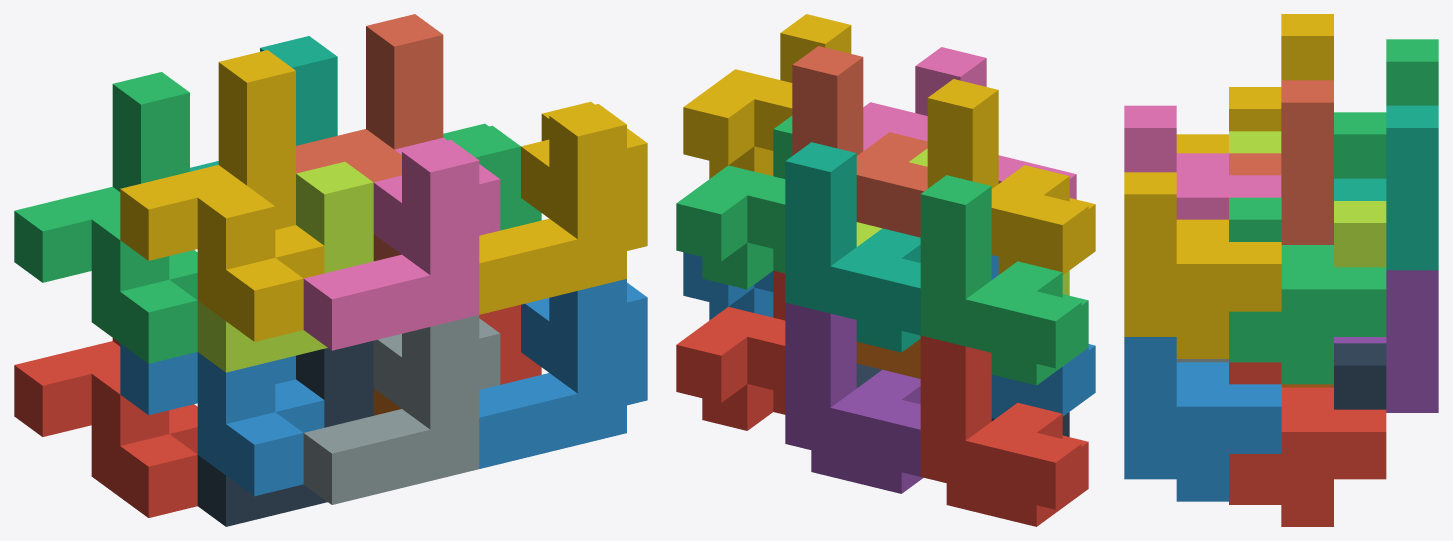
Rendered from tiling.obj.
3 views of the same model, side by side, from view 1: azimuth 30°, elevation 25°; view 2: azimuth 150°, elevation 25°; view 3: azimuth 270°, elevation 25° (orthographic). The views are drawn at different scales.
Visible parts, largest first — view 1: copy_1_domain_4, copy_1_domain_3, copy_2_domain_4, copy_2_domain_8, copy_2_domain_2, copy_2_domain_6, copy_1_domain_1, copy_1_domain_2, copy_1_domain_8, copy_2_domain_3, copy_2_domain_1, copy_1_domain_7 (+2 smaller); view 2: copy_1_domain_3, copy_1_domain_1, copy_1_domain_7, copy_1_domain_5, copy_1_domain_4, copy_1_domain_8, copy_2_domain_7, copy_2_domain_5, copy_2_domain_8, copy_2_domain_4, copy_1_domain_2, copy_2_domain_6 (+3 smaller); view 3: copy_2_domain_8, copy_2_domain_6, copy_2_domain_7, copy_2_domain_5, copy_1_domain_7, copy_1_domain_8, copy_2_domain_4, copy_1_domain_5, copy_1_domain_3, copy_1_domain_4, copy_2_domain_3, copy_2_domain_1.
Part boxes in pixels (<box>): copy_1_domain_4: <box>120,50,324,341</box>; copy_1_domain_3: <box>14,72,197,363</box>; copy_2_domain_4: <box>303,137,500,350</box>; copy_2_domain_8: <box>479,101,647,314</box>; copy_2_domain_2: <box>303,315,500,504</box>; copy_2_domain_6: <box>479,279,647,468</box>; copy_1_domain_1: <box>14,338,197,517</box>; copy_1_domain_2: <box>120,343,324,496</box>; copy_1_domain_8: <box>296,14,443,261</box>; copy_2_domain_3: <box>197,161,373,372</box>; copy_2_domain_1: <box>197,340,373,526</box>; copy_1_domain_7: <box>190,36,337,171</box>; copy_1_domain_3: <box>920,175,1088,385</box>; copy_1_domain_1: <box>920,335,1088,526</box>; copy_1_domain_7: <box>785,142,920,352</box>; copy_1_domain_5: <box>785,302,923,493</box>; copy_1_domain_4: <box>927,79,1095,274</box>; copy_1_domain_8: <box>792,46,927,237</box>; copy_2_domain_7: <box>676,115,792,289</box>; copy_2_domain_5: <box>676,270,785,430</box>; copy_2_domain_8: <box>683,14,851,178</box>; copy_2_domain_4: <box>863,47,1076,199</box>; copy_1_domain_2: <box>991,255,1095,418</box>; copy_2_domain_6: <box>683,252,773,320</box>; copy_2_domain_8: <box>1124,172,1281,358</box>; copy_2_domain_6: <box>1124,337,1281,501</box>; copy_2_domain_7: <box>1229,197,1386,384</box>; copy_2_domain_5: <box>1229,362,1386,526</box>; copy_1_domain_7: <box>1334,105,1438,270</box>; copy_1_domain_8: <box>1229,80,1333,244</box>; copy_2_domain_4: <box>1124,105,1281,219</box>; copy_1_domain_5: <box>1334,270,1438,412</box>; copy_1_domain_3: <box>1334,39,1438,178</box>; copy_1_domain_4: <box>1176,14,1333,153</box>; copy_2_domain_3: <box>1229,131,1386,267</box>; copy_2_domain_1: <box>1334,343,1386,409</box>.
Size of the model in its own units: 10 by 8 by 6.
